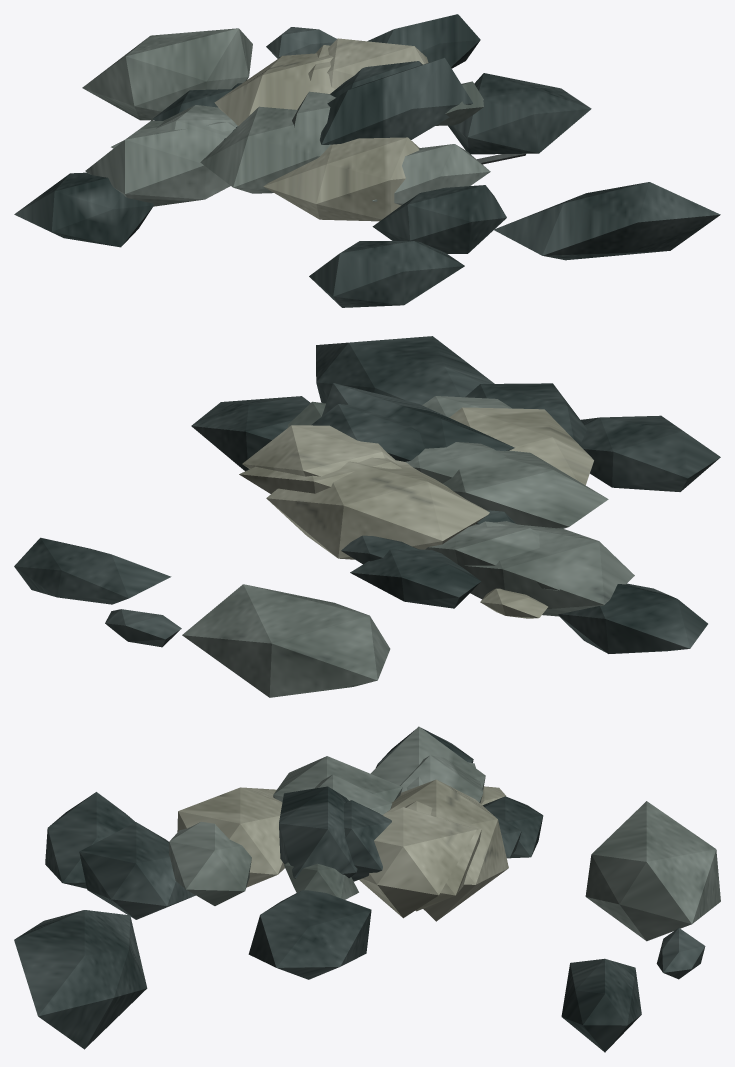
Rendered from 0119_scree_pile_19.glb.
3 renders of one model, top to bottom at view 1: azimuth 30°, elevation 25°; view 2: azimuth 150°, elevation 25°; view 3: azimuth 270°, elevation 25°, orthographic. The views are drawn at different scales.
Parts seen in each view (by area): view 1: stone_dark, stone, stone_light; view 2: stone_dark, stone, stone_light; view 3: stone_dark, stone, stone_light.
Boxes of the visible parts, x1,y1,x2,y2 form: stone_dark: (14, 14, 720, 307); stone: (82, 28, 490, 206); stone_light: (214, 38, 428, 221); stone_dark: (14, 336, 720, 653); stone: (182, 396, 634, 697); stone_light: (239, 407, 593, 618); stone_dark: (14, 728, 705, 1052); stone: (169, 726, 720, 941); stone_light: (177, 779, 508, 921).
Bounding box in the file's own units: 2.87 × 0.7361 × 3.
Materials: 4 (4 with a texture image).
